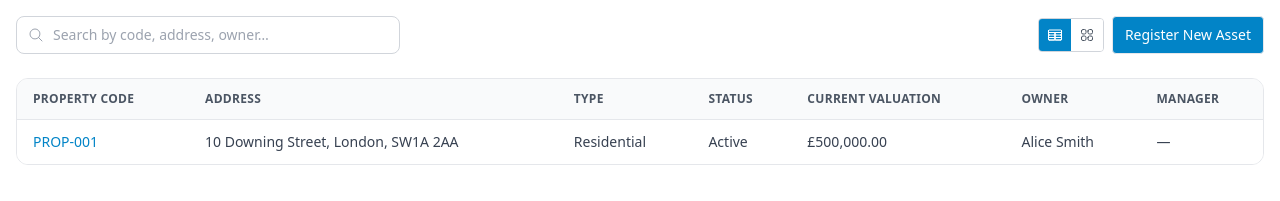
AssetsPage › switches to tile view and persists to localStorage
Expected: the text "PROP-001" is shown, [17,120,189,164]
Click the button named "tile view" at (1087,35), box [1071,19,1103,51]
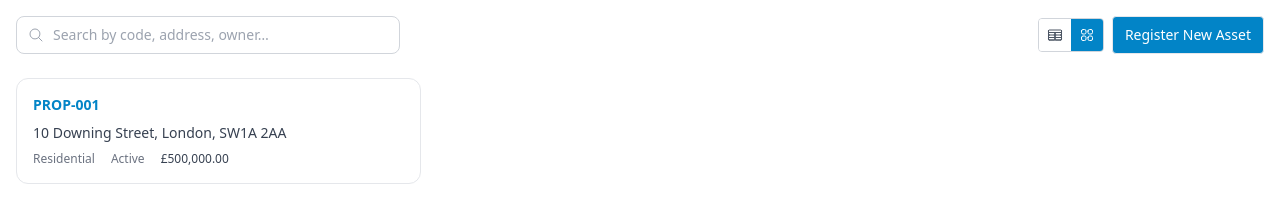
Expected: the table is gone
